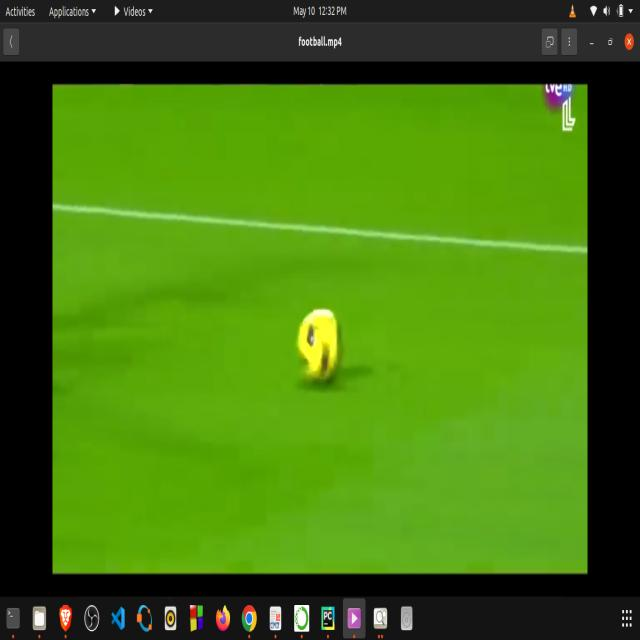ball: (278, 276, 354, 434)
